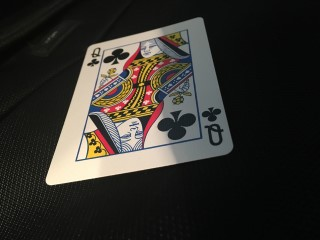QueenOfClubs: (45, 17, 233, 185)
